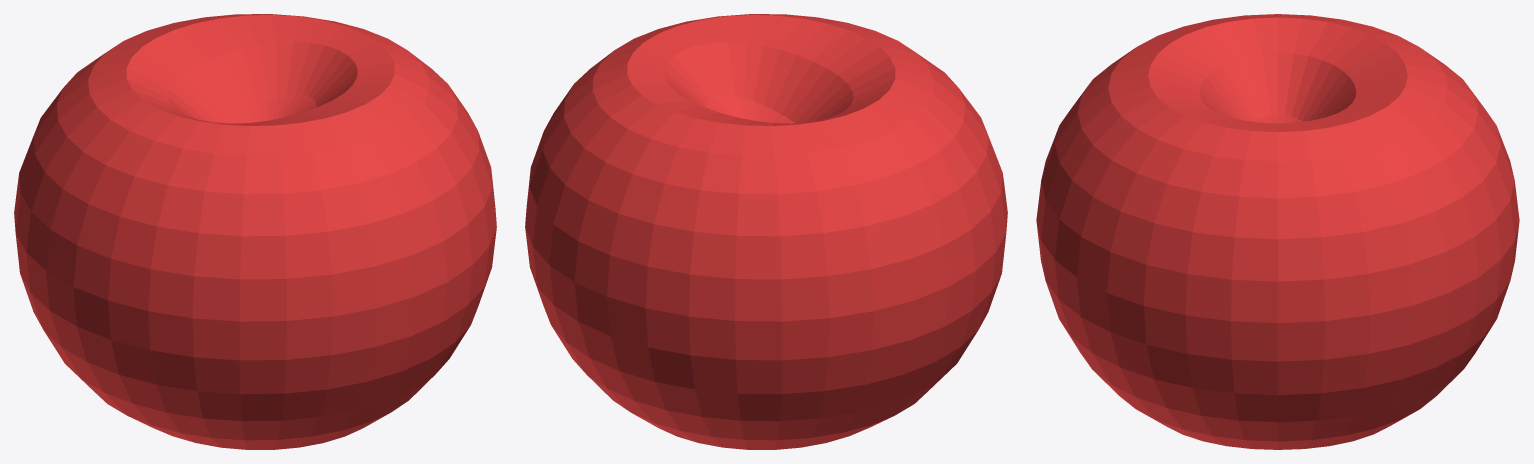
The model's file is Fruit_Apple.glb.
3 renders of one model, left to right at view 1: azimuth 30°, elevation 25°; view 2: azimuth 150°, elevation 25°; view 3: azimuth 270°, elevation 25°, orthographic.
Visible parts, largest first — view 1: fruit_apple.001; view 2: fruit_apple.001; view 3: fruit_apple.001.
Part boxes in pixels (left/top/right/bottom): fruit_apple.001: left=14, top=14, right=496, bottom=449; fruit_apple.001: left=525, top=14, right=1007, bottom=449; fruit_apple.001: left=1036, top=14, right=1519, bottom=449.
Size of the model in its own units: 0.162 by 0.1231 by 0.1617.
